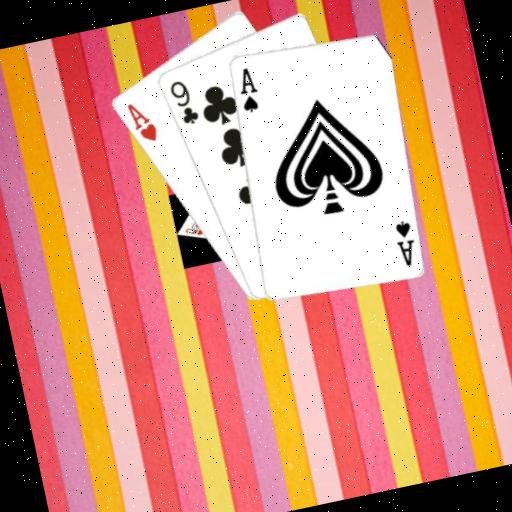9C: (164, 74, 201, 129)
AH: (122, 96, 160, 148)
AS: (230, 62, 263, 115), (388, 215, 420, 269)
